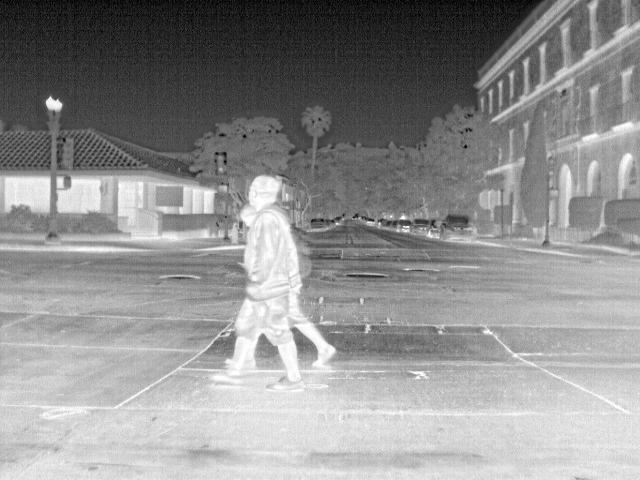car: (439, 213, 478, 246), (308, 218, 327, 234), (411, 220, 429, 236), (425, 220, 440, 239), (397, 220, 414, 234)
person: (206, 174, 306, 394)
